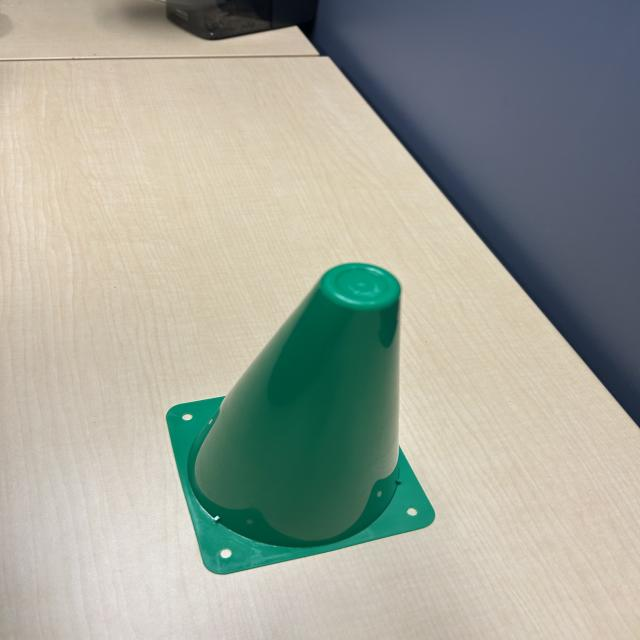green cone: (154, 259, 464, 574)
